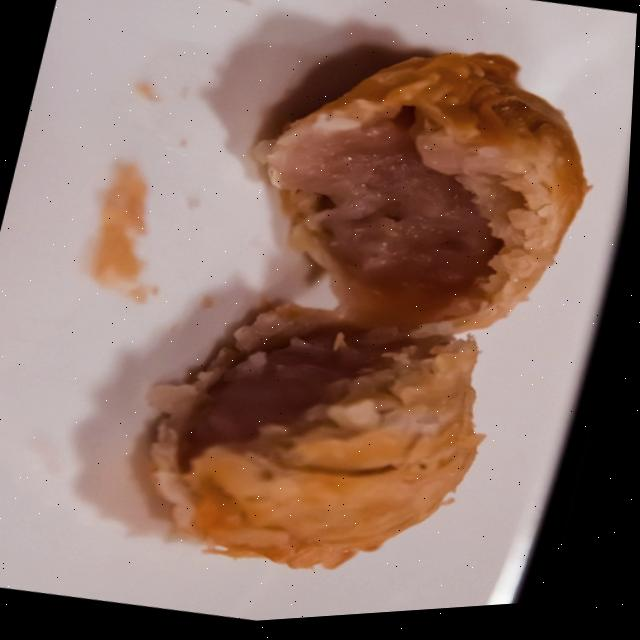炸货点心: (94, 0, 640, 634)
